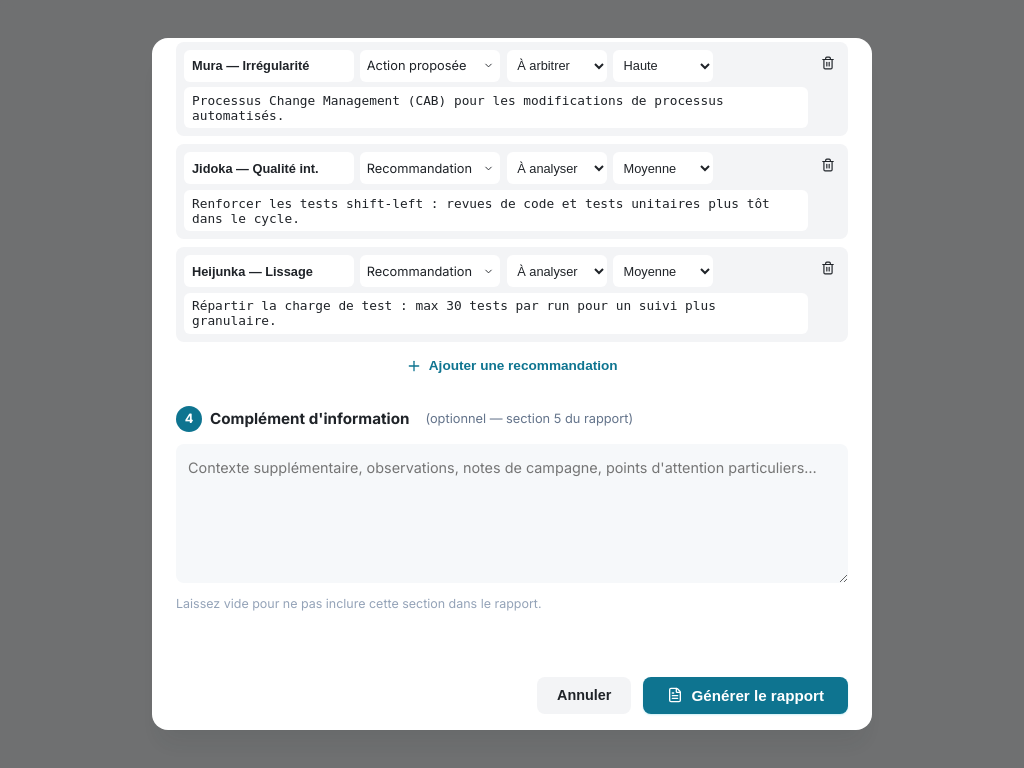
it: ReportGeneratorModal › handles successful report generation
This screenshot has width=1024, height=768.
(page scrolled)
Click the button "Générer le rapport": coordinates (746, 695) x1=644 y1=677 x2=848 y2=714
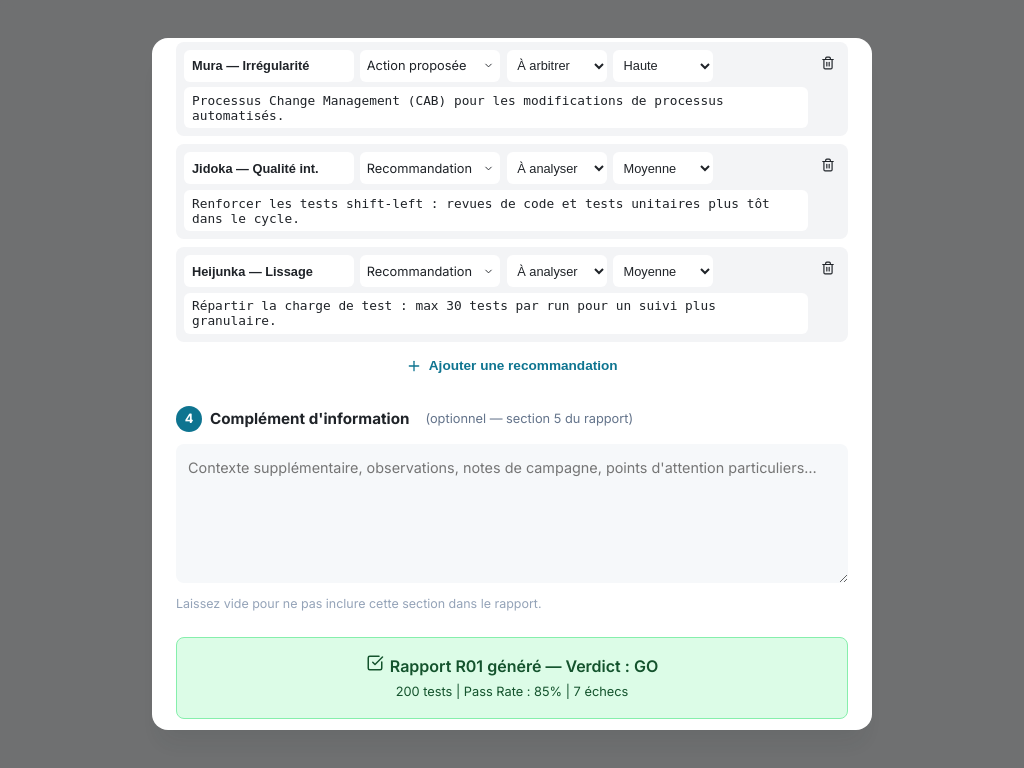
Now the text "Rapport R01 généré — Verdict : GO" is shown, box x1=390 y1=656 x2=658 y2=676
